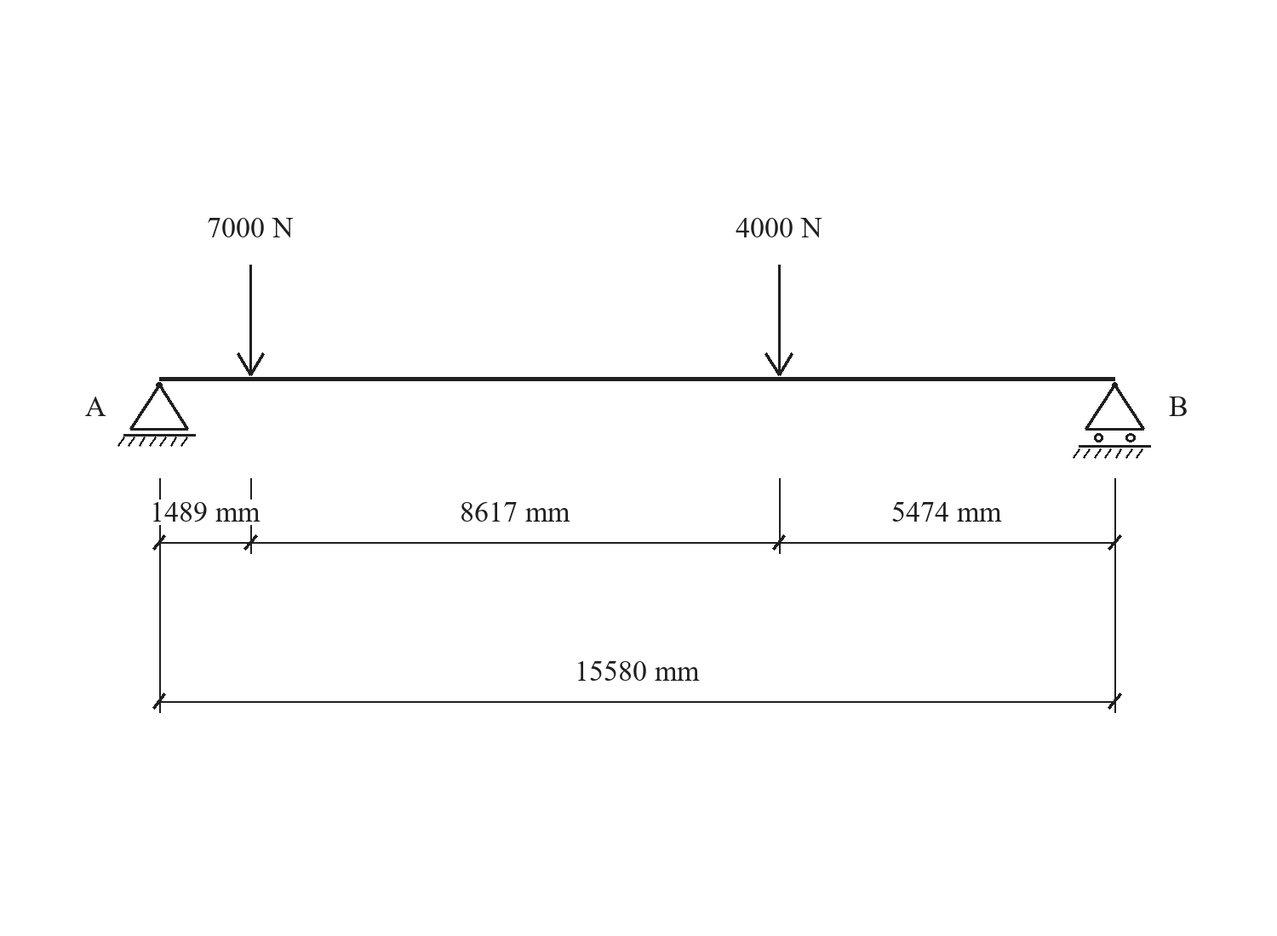pin_support: (117, 382, 196, 447)
point_load: (764, 265, 793, 376), (237, 265, 265, 376)
roller_support: (1073, 382, 1151, 459)
